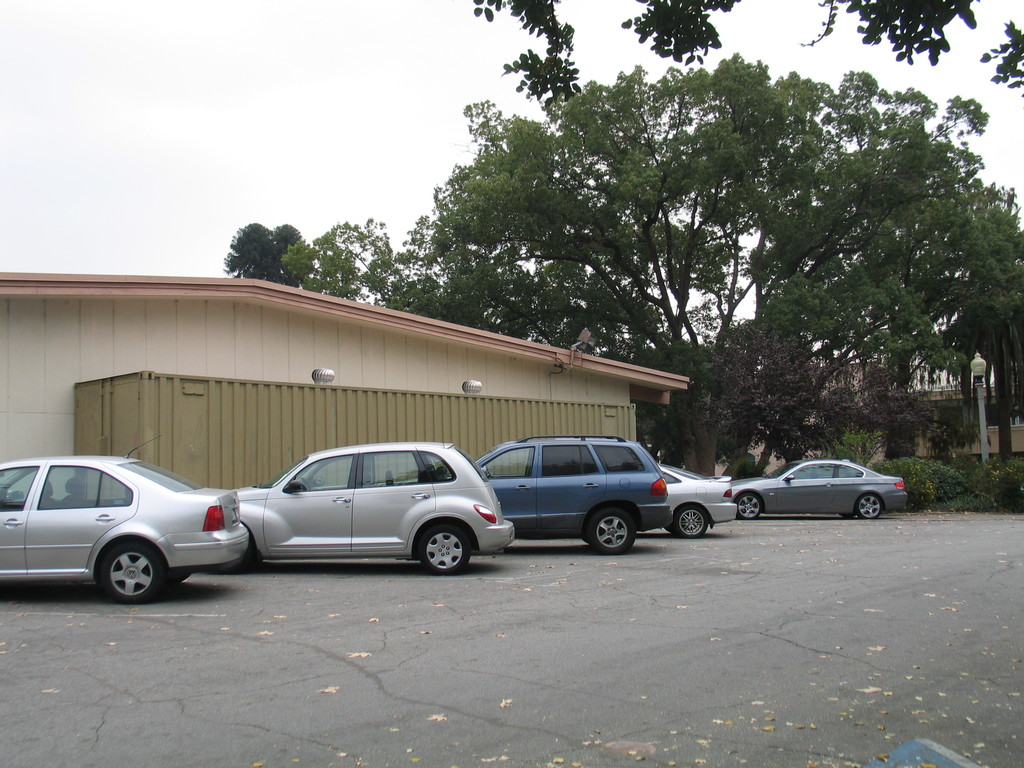Car: (0, 432, 253, 600), (236, 439, 513, 576), (471, 428, 671, 554), (736, 452, 909, 521), (657, 463, 737, 537)
